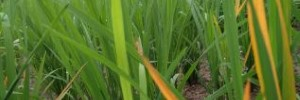RiceTungro: (247, 1, 292, 100)
